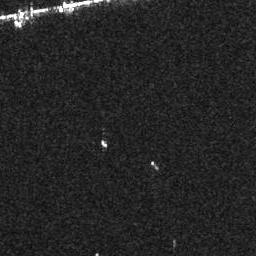ship: (101, 139, 108, 148)
